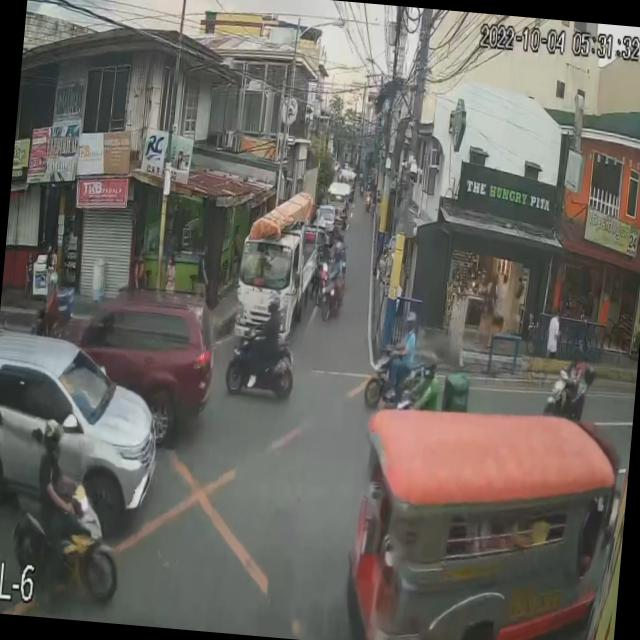full: (39, 412, 65, 462), (419, 352, 438, 379), (266, 293, 280, 314), (405, 309, 416, 334)
